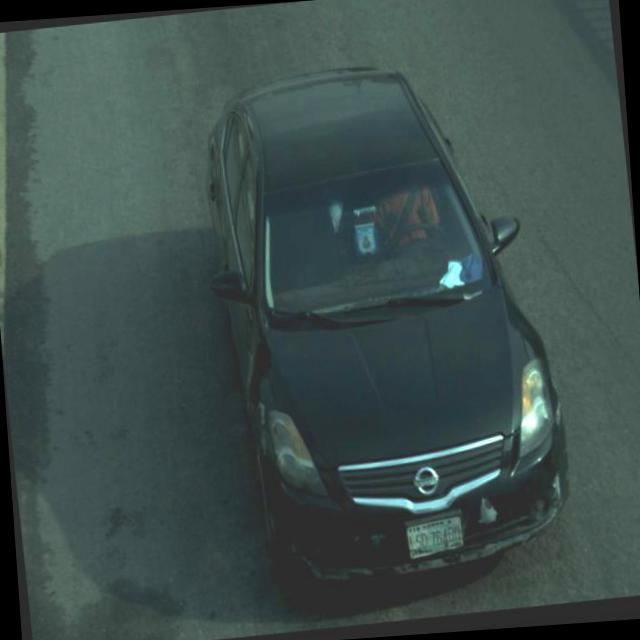person_with_seatbelt: (362, 175, 465, 294)
